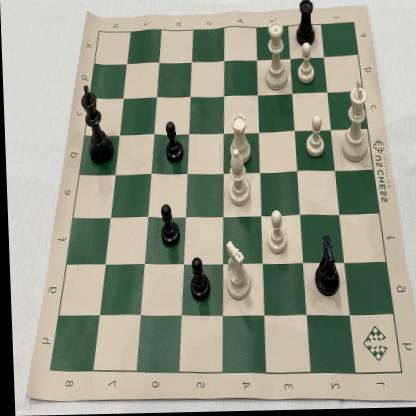black-king: (75, 80, 116, 170)
black-knight: (308, 234, 340, 302)
black-pawn: (155, 199, 181, 253), (184, 253, 210, 304), (162, 121, 184, 170)
black-rook: (293, 0, 319, 50)
white-bishop: (223, 148, 250, 208)
white-king: (336, 79, 372, 167)
white-knight: (221, 238, 251, 305)
white-pawn: (263, 207, 290, 259), (302, 111, 326, 162), (292, 41, 318, 88)
white-queen: (260, 20, 289, 96)
white-rook: (224, 113, 252, 168)
